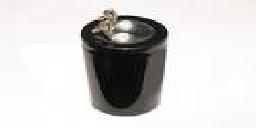Electrolytic-capacitor: (82, 10, 171, 118)
